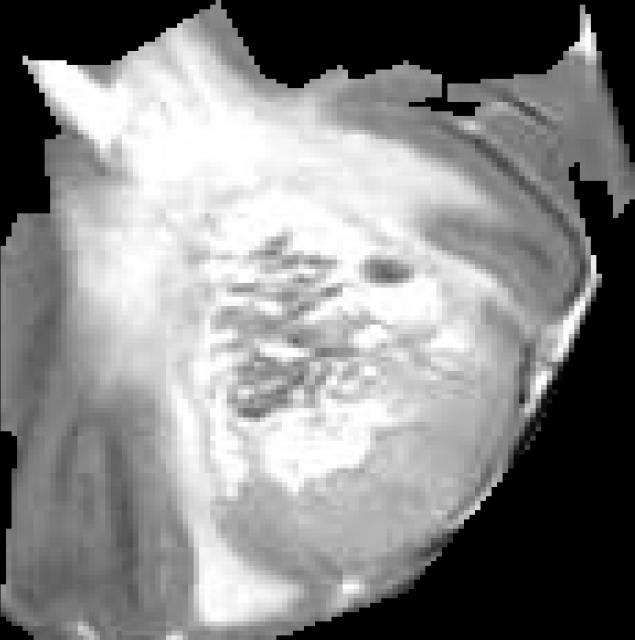tumor_moderate_chance: (1, 0, 635, 640)
